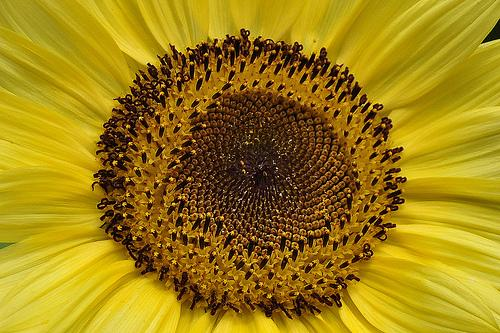sunflower: (0, 1, 500, 333)
